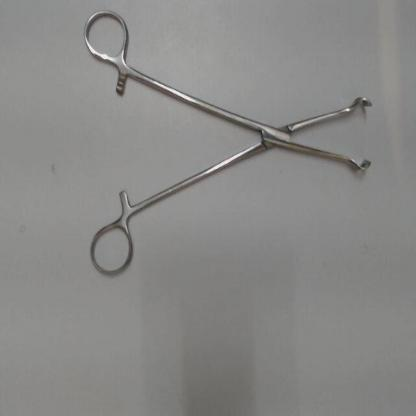8 Babcock Tissue Forceps: (80, 1, 374, 282)
